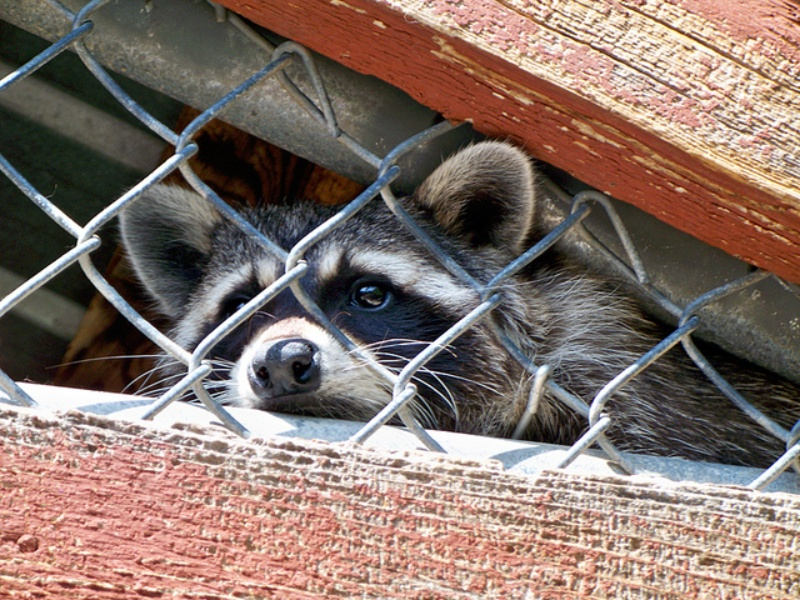raccoon: (111, 144, 775, 476)
